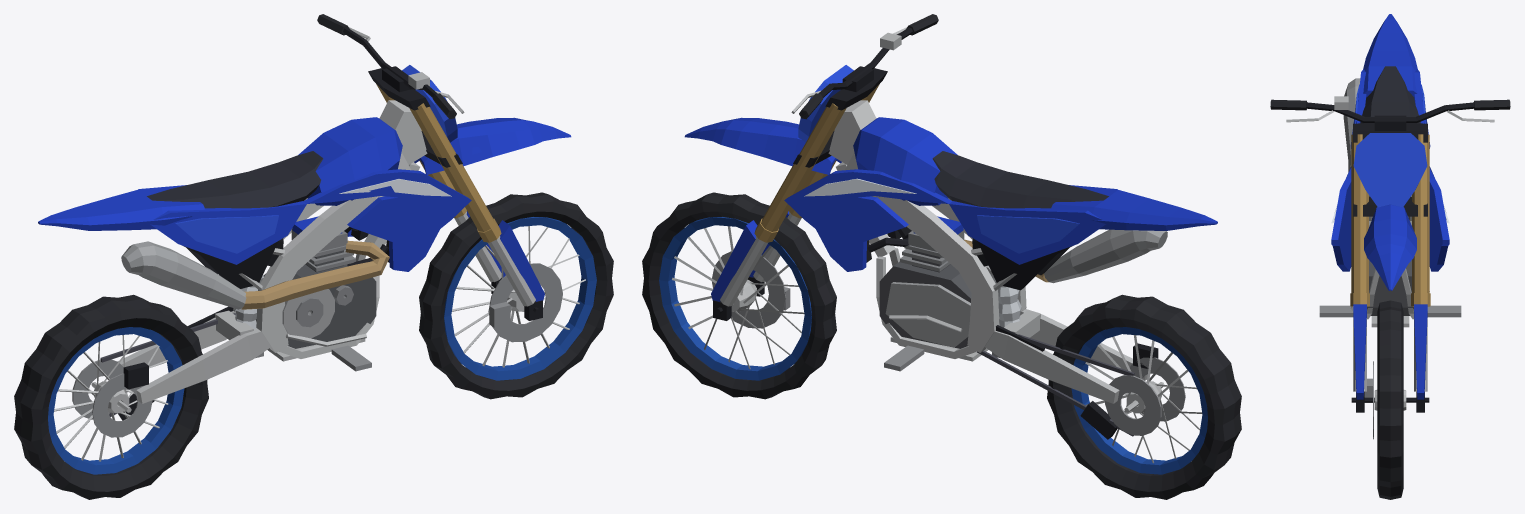
File: race_bike.glb
3 renders of one model, left to right at view 1: azimuth 30°, elevation 25°; view 2: azimuth 150°, elevation 25°; view 3: azimuth 270°, elevation 25°, orthographic. The views are drawn at different scales.
Visible parts, largest first — view 1: race_bike; view 2: race_bike; view 3: race_bike.
Part boxes in pixels (x1,y1,x2,y2): race_bike: (14,14,613,499); race_bike: (642,14,1241,499); race_bike: (1270,14,1510,499).
Size of the model in its own units: 2.15 by 1.28 by 0.8309.
